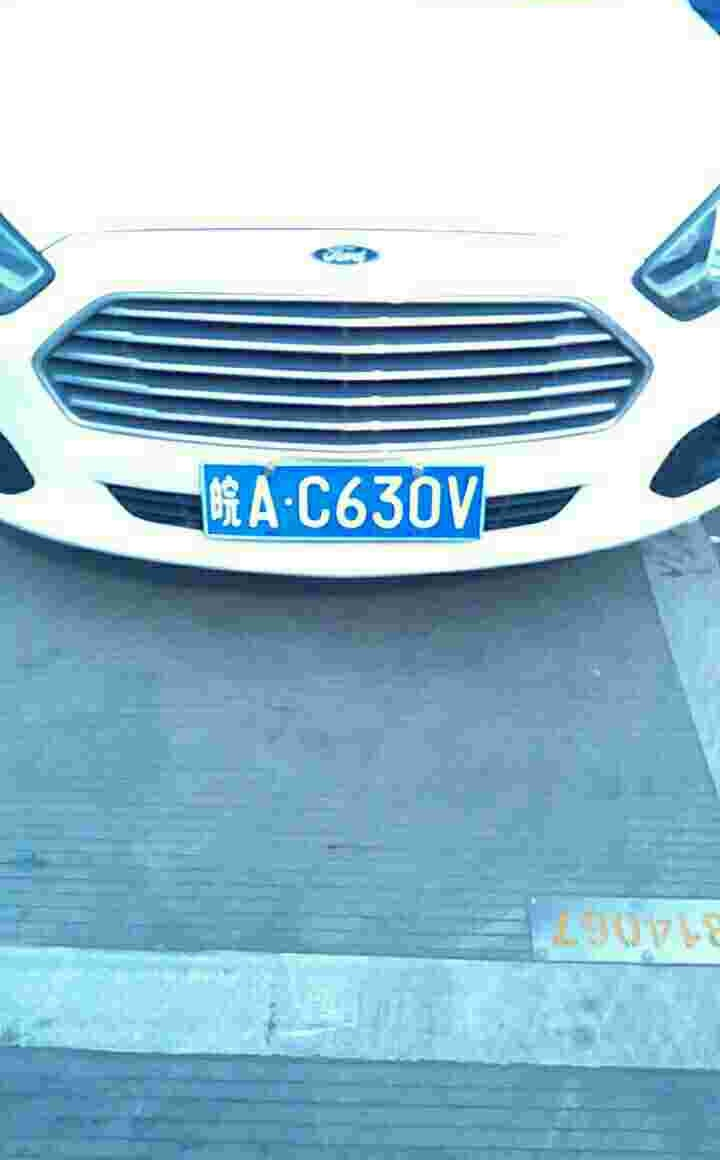license_plate: (202, 466, 492, 542)
